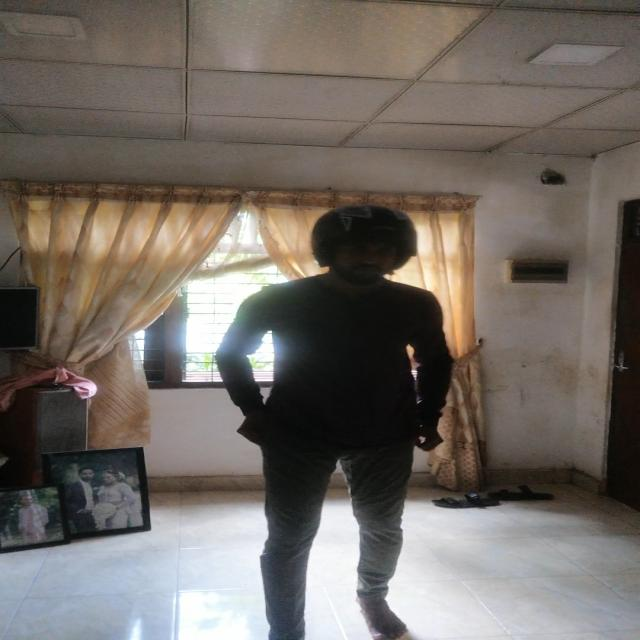Helmet_Wearer: (283, 198, 430, 290)
Person: (209, 196, 452, 640)
